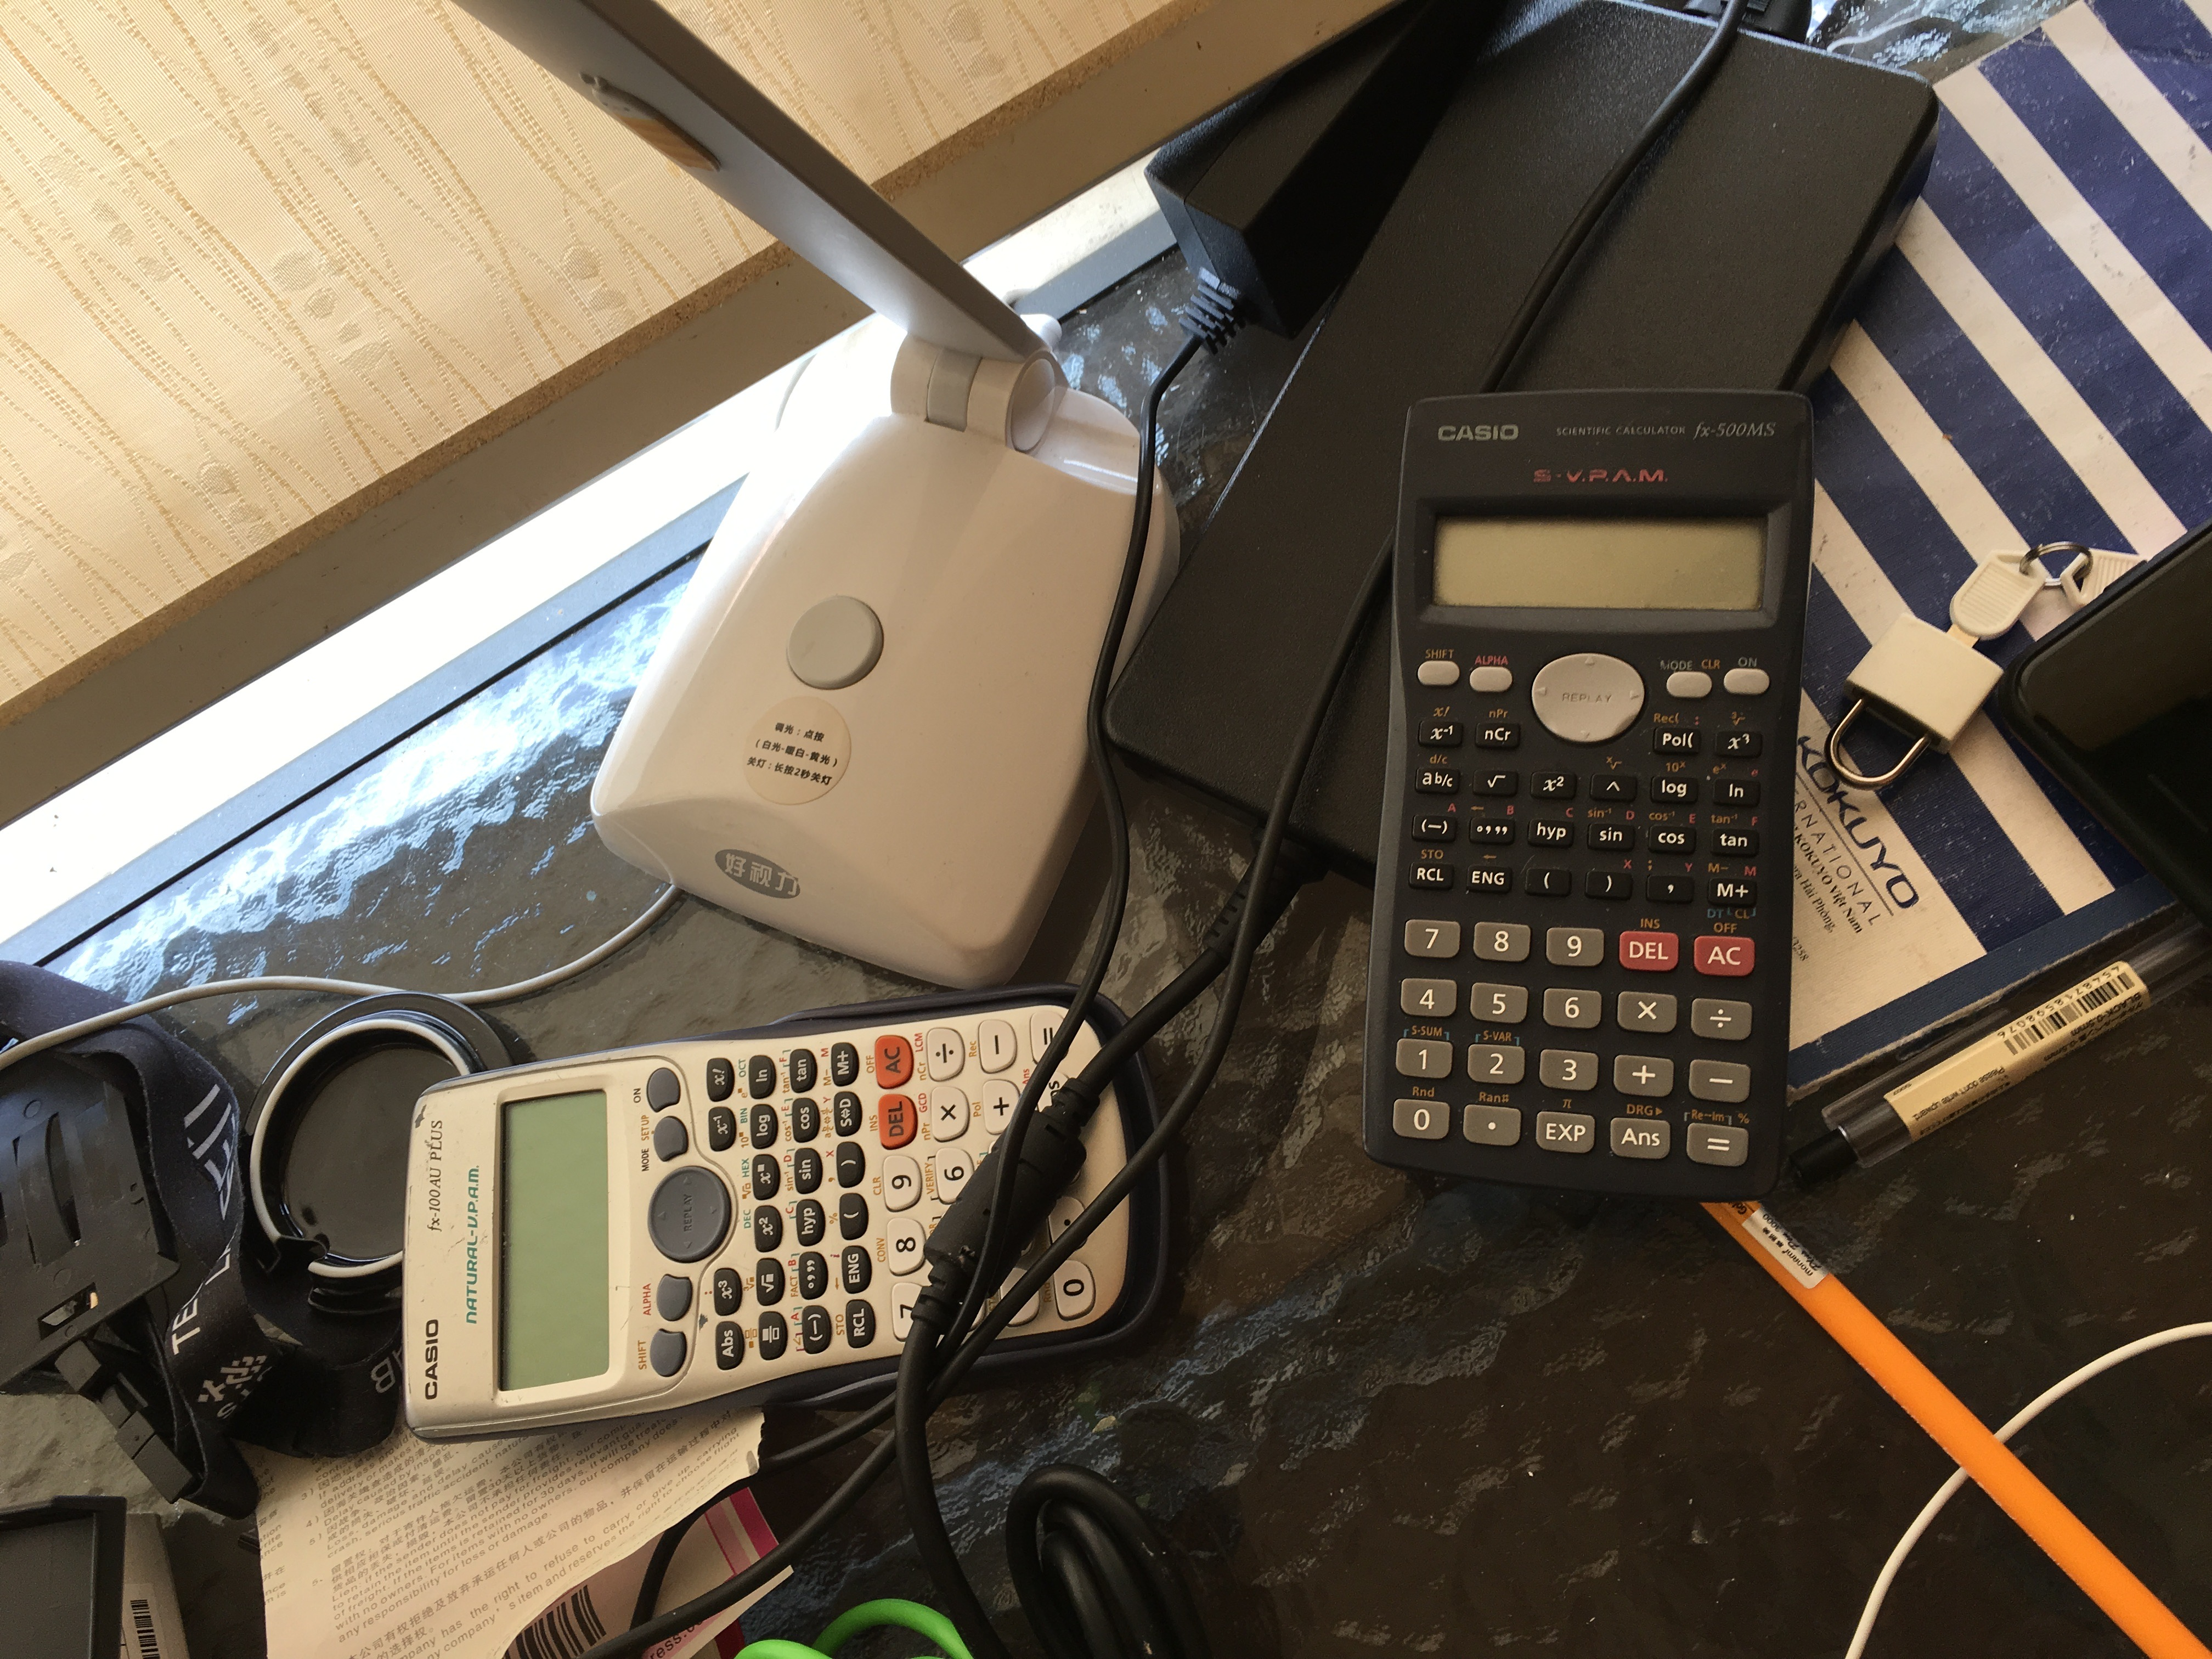Calculator: (1346, 375, 1825, 1220), (385, 978, 1188, 1452)
